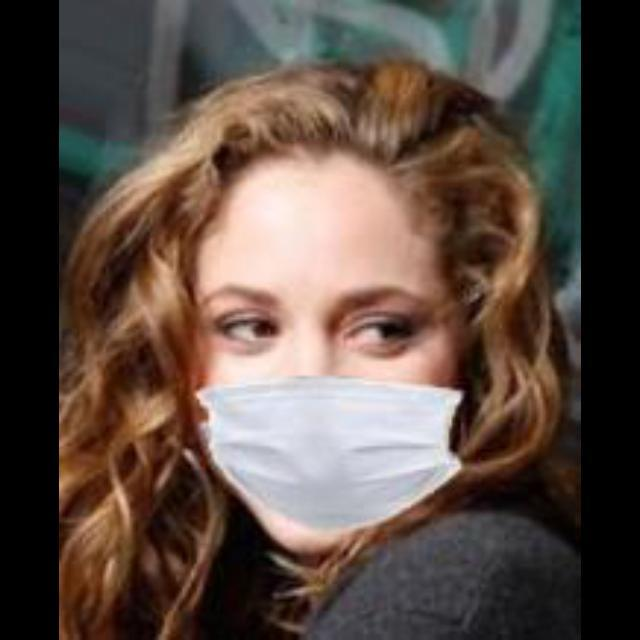suspicion: (170, 109, 480, 528)
